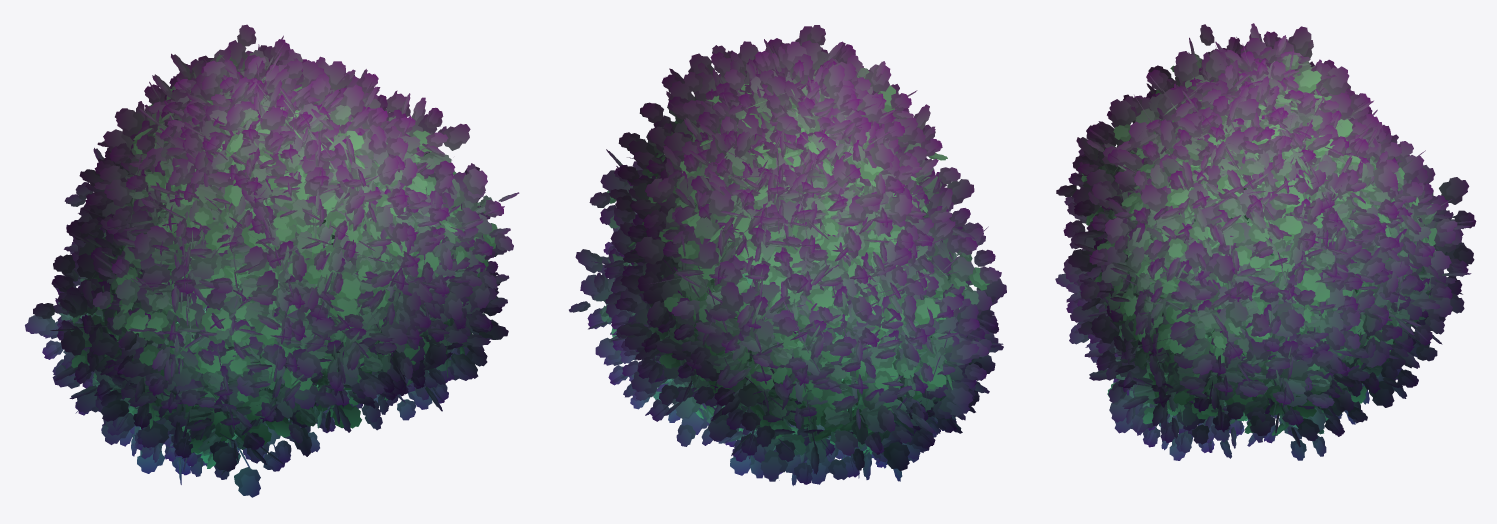
Rendered from trp_bush.glb.
The picture shows the model from 3 angles, left to right: view 1: azimuth 30°, elevation 25°; view 2: azimuth 150°, elevation 25°; view 3: azimuth 270°, elevation 25°; orthographic projection. The views are drawn at different scales.
Visible parts, largest first — view 1: SM_Env_Bush_01_LOD0; view 2: SM_Env_Bush_01_LOD0; view 3: SM_Env_Bush_01_LOD0.
Part boxes in pixels (<box>): SM_Env_Bush_01_LOD0: <box>25,24,519,497</box>; SM_Env_Bush_01_LOD0: <box>569,25,1006,485</box>; SM_Env_Bush_01_LOD0: <box>1055,23,1476,460</box>.
Size of what is drawn, in the model's own units: 2.68 by 2.88 by 2.44.
Materials: 1 (1 with a texture image).
